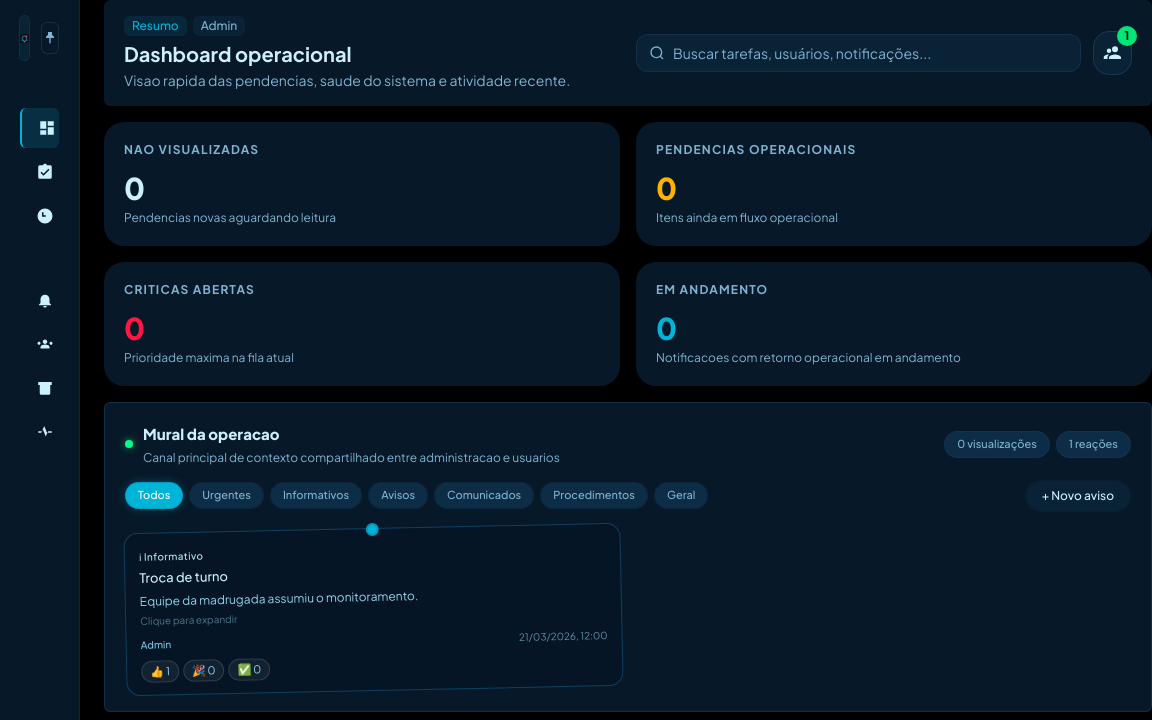
AdminDashboard › executa busca global no admin com resultados locais e de tarefas
Step 1. Type "falha" into the search field named "Busca global do admin" → (870, 53), box [673,43,1068,63]
(page scrolled)
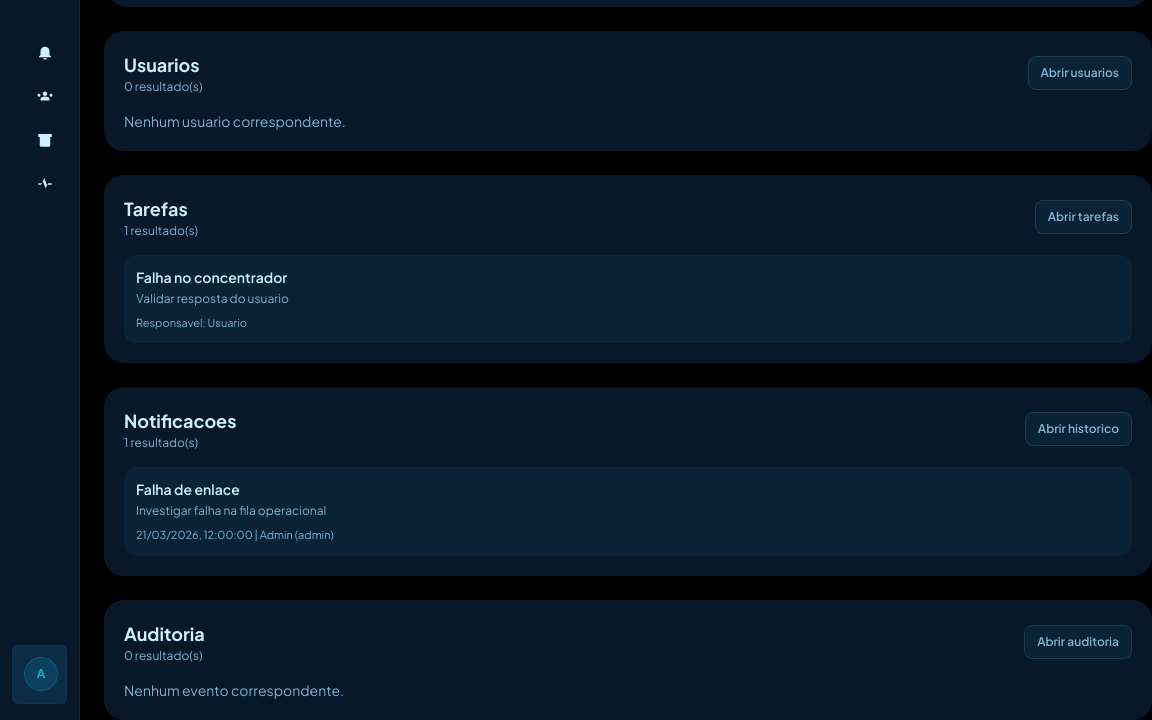
Now the text "Falha no concentrador" is shown, box [136,268,287,286]
Now the text "Falha de enlace" is shown, box [136,480,240,498]
